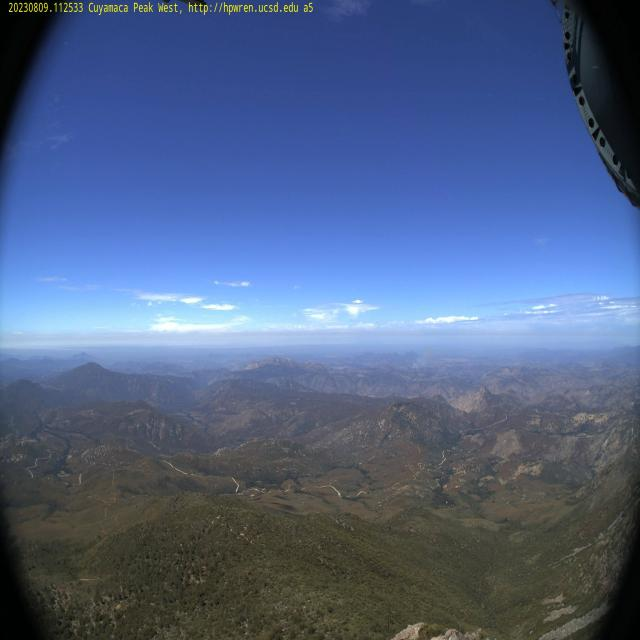smoke: (410, 347, 428, 371)
